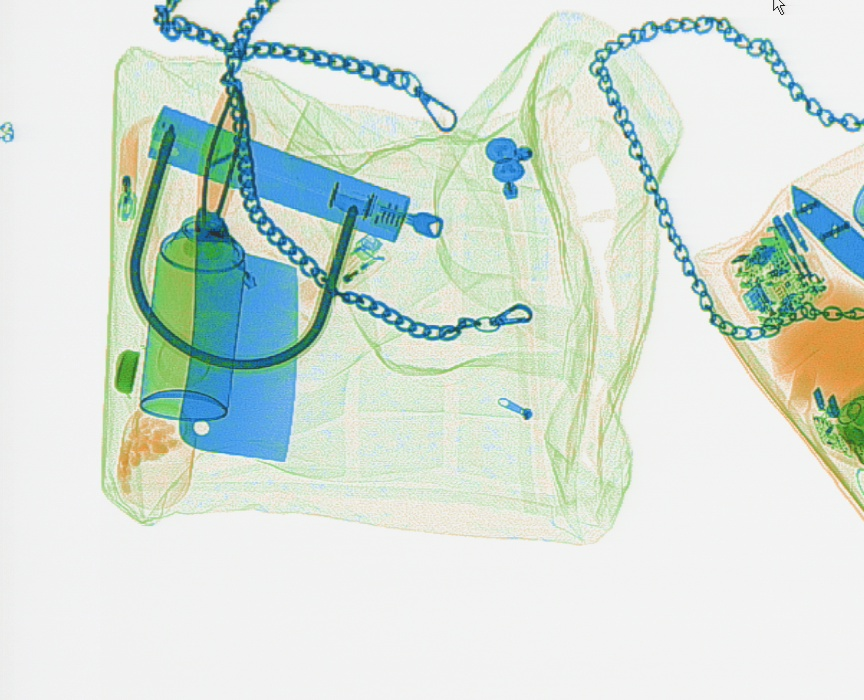knife: (175, 89, 301, 465), (787, 180, 861, 282)
lighter: (295, 231, 384, 303), (112, 115, 141, 227)
pressure: (134, 211, 249, 423)
